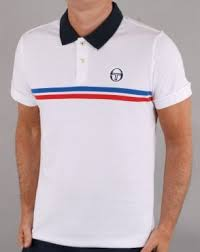C_polo shirt: (10, 17, 186, 246)
